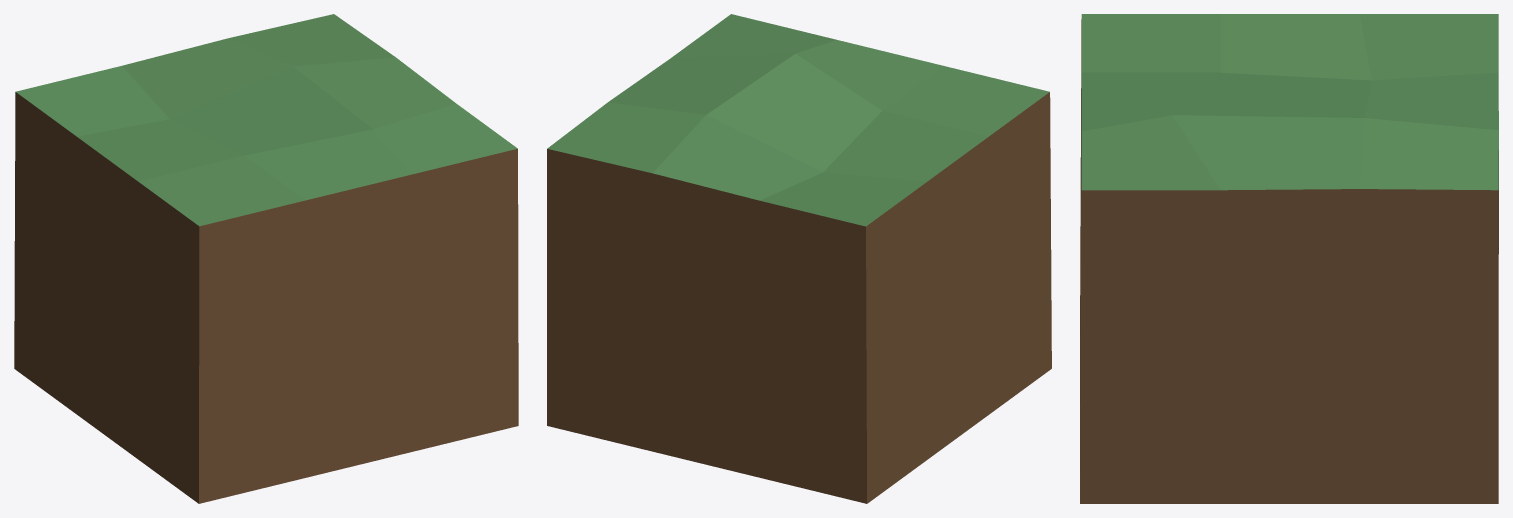
The model's file is plat_terre_millieu_4.fbx.
3 renders of one model, left to right at view 1: azimuth 30°, elevation 25°; view 2: azimuth 150°, elevation 25°; view 3: azimuth 270°, elevation 25°, orthographic. The views are drawn at different scales.
Visible parts, largest first — view 1: Plane; view 2: Plane; view 3: Plane.
Boxes of the visible parts, x1,y1,x2,y2 form: Plane: [14, 14, 518, 503]; Plane: [547, 14, 1051, 503]; Plane: [1080, 14, 1498, 503].
Size of the model in its own units: 245 by 214 by 245.
